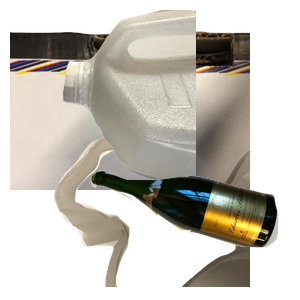cardboard: (10, 29, 250, 209)
glass: (88, 167, 300, 300)
plastic: (60, 10, 300, 190)
trash: (51, 120, 291, 300)
